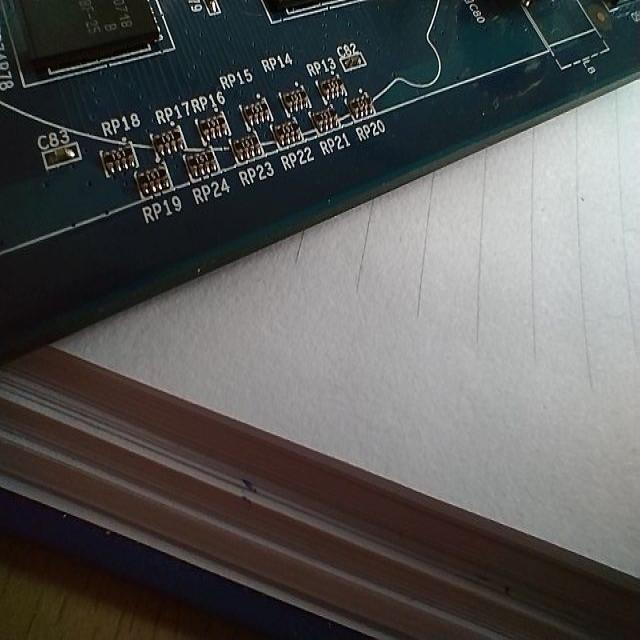capacitor: (36, 135, 89, 174), (335, 40, 371, 84)
